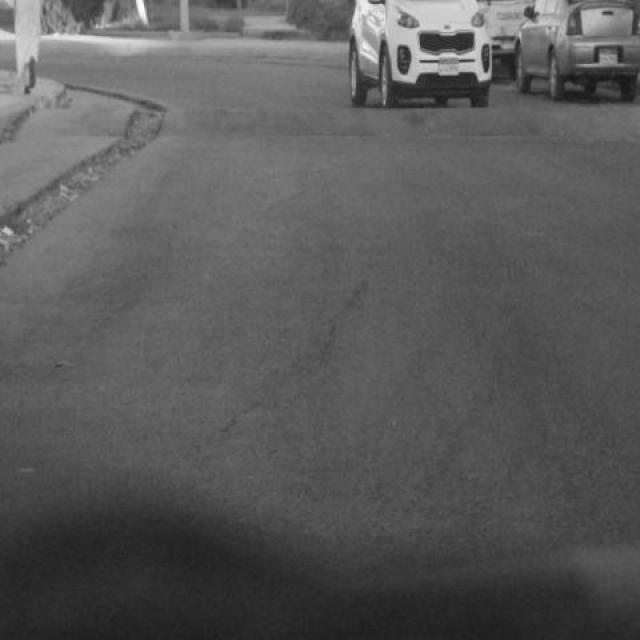Unmarked Bump: (157, 105, 639, 139)
